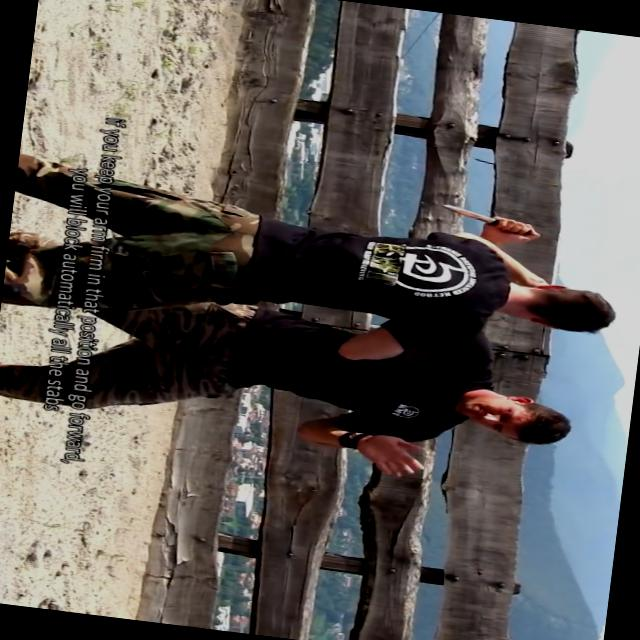knife: (434, 196, 550, 245)
